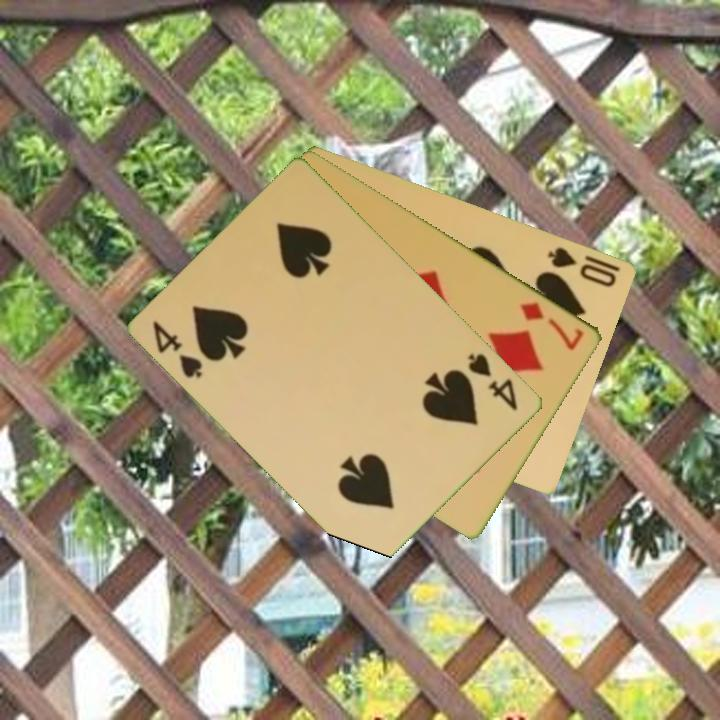10s: (544, 242, 620, 290)
4s: (149, 317, 206, 381), (465, 349, 521, 414)
7d: (517, 298, 587, 353)
